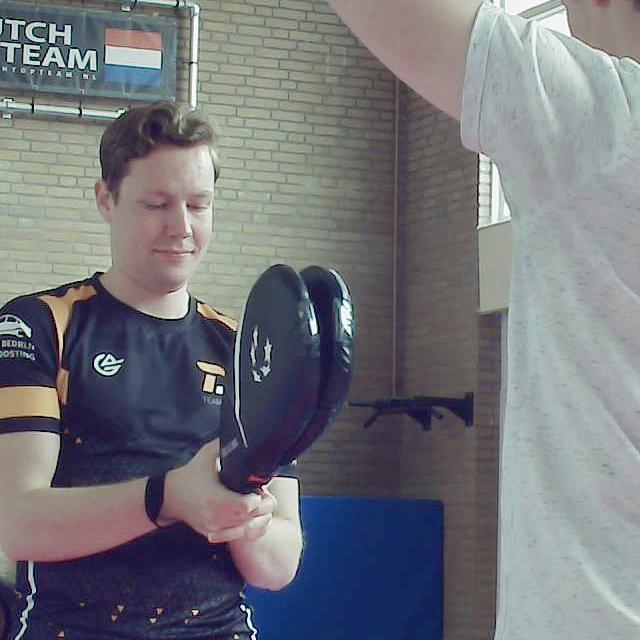paddle: (220, 264, 355, 493)
